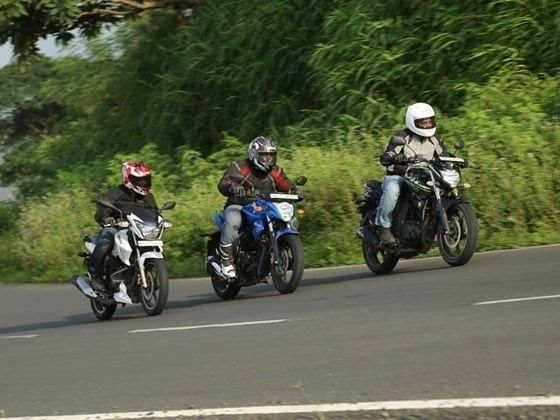helmet: (117, 159, 159, 197), (246, 134, 280, 172), (407, 103, 436, 136)
